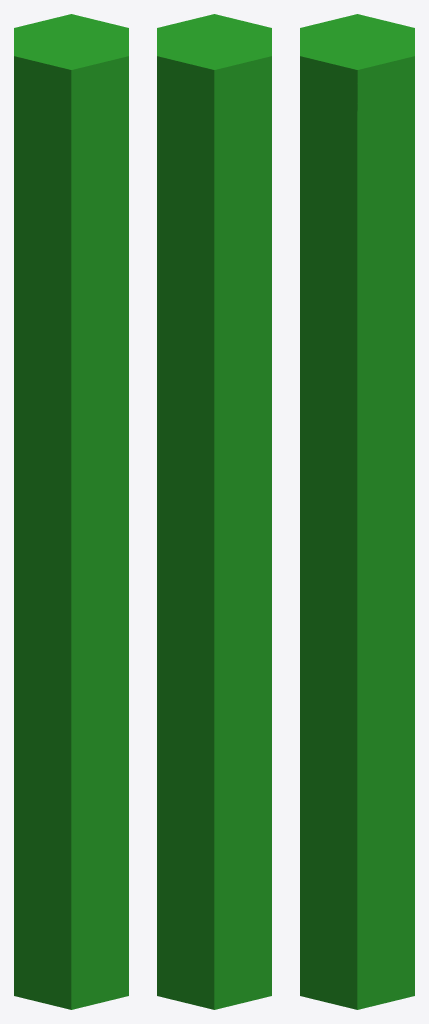
The model's file is Tige.fbx.
The picture shows the model from 3 angles, left to right: view 1: azimuth 90°, elevation 25°; view 2: azimuth 150°, elevation 25°; view 3: azimuth 330°, elevation 25°; orthographic projection.
Visible parts, largest first — view 1: Tige; view 2: Tige; view 3: Tige.
Boxes of the visible parts, x1,y1,x2,y2 form: Tige: (14,14,128,1009); Tige: (157,14,271,1009); Tige: (300,14,414,1009).
Bounding box in the file's own units: 0.256 × 2 × 0.2217.
